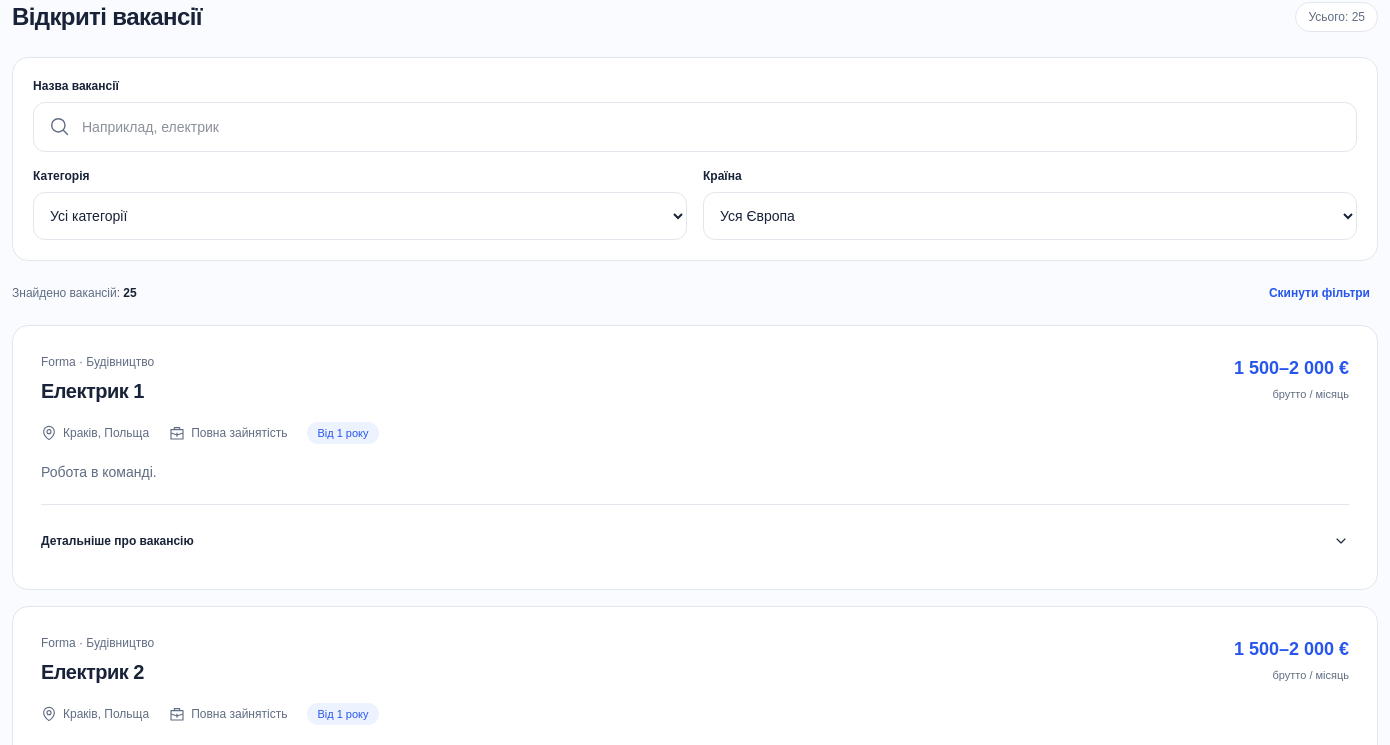
Test: show more vacancies › adds batches of ten, preserves existing cards and focuses the first new card
The image size is (1390, 745).
Step 1. Click the heading "Детальніше про вакансію" → (117, 541), box [41,533,1349,549]
(page scrolled)
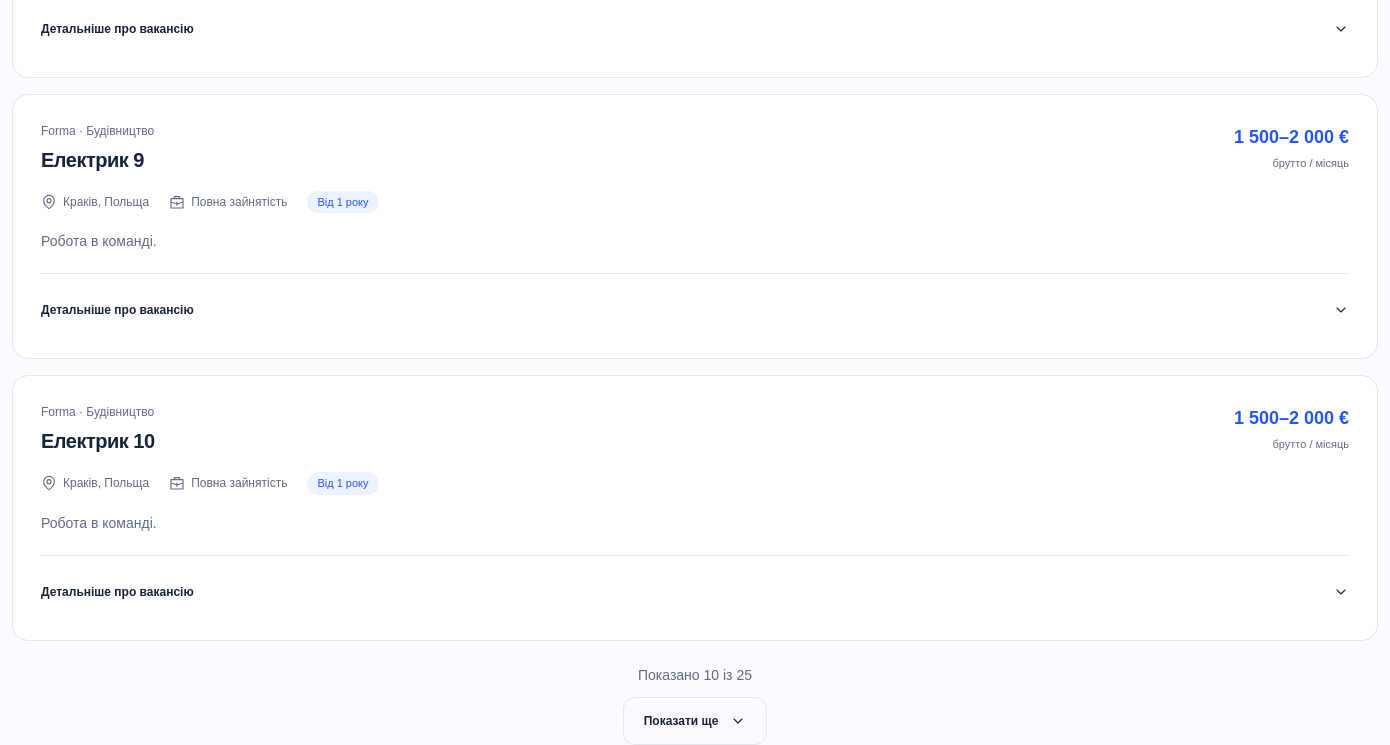
Step 2. Click the button "Показати ще" → (695, 721), box [623,697,767,744]
(page scrolled)
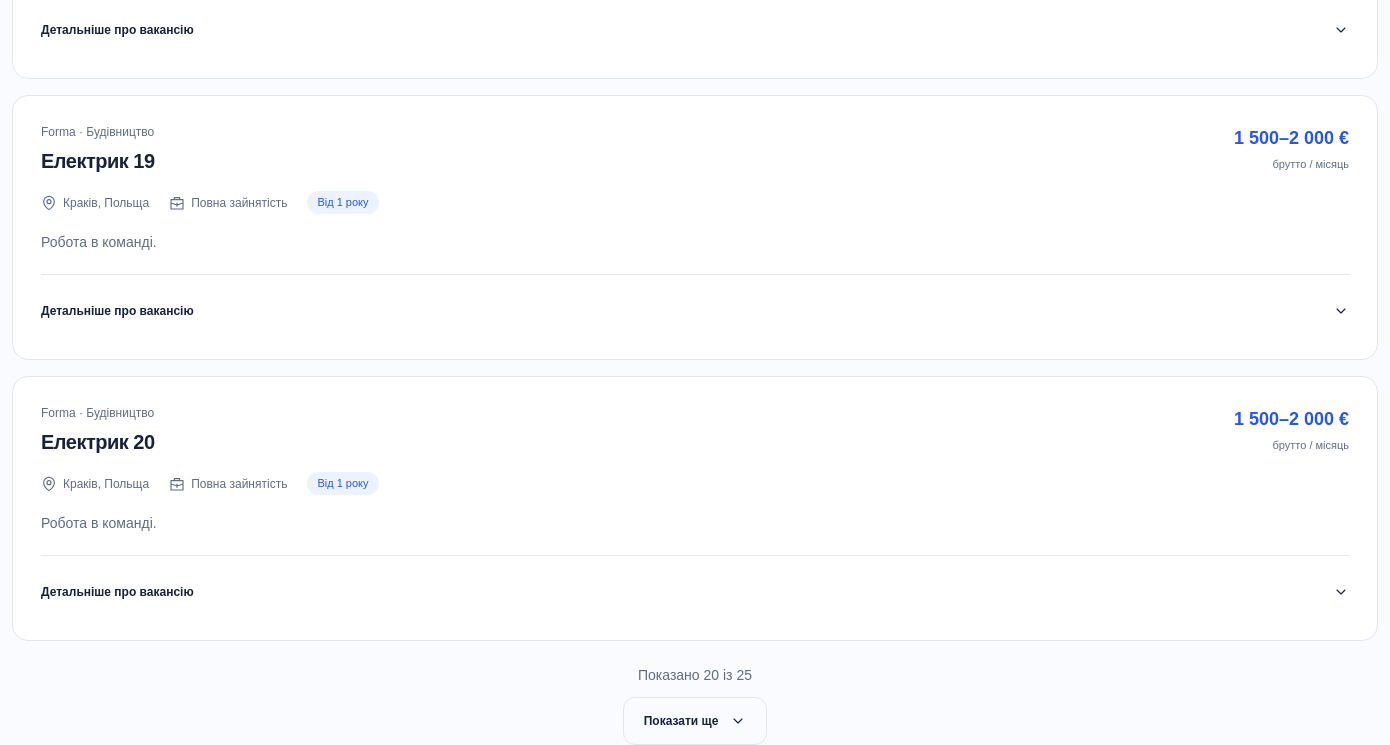
Now the text "Показано 20 із 25" is shown, box [638,665,752,685]
Step 3. Click the button "Показати ще" → (695, 721), box [623,697,767,744]
(page scrolled)
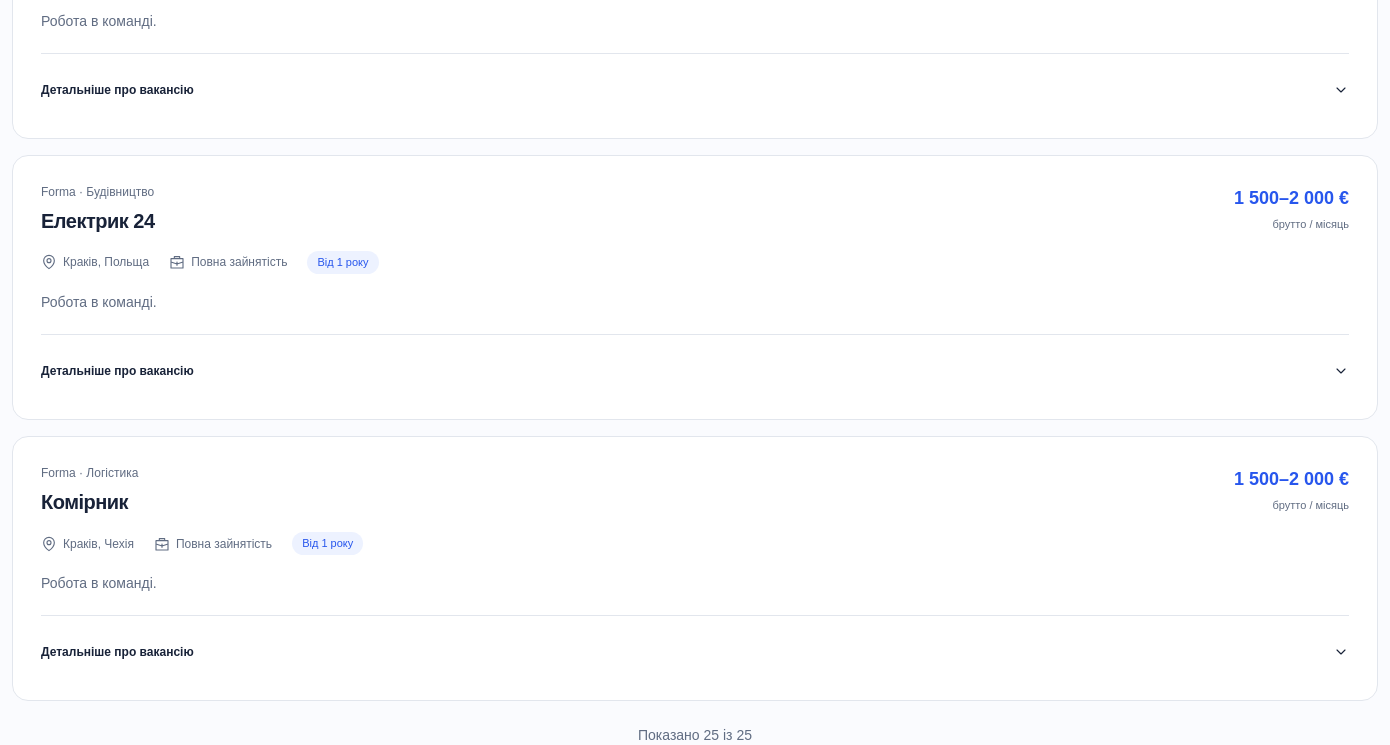
Now the text "Показано 25 із 25" is shown, box [638,725,752,744]
Now the button "Показати ще" is gone
